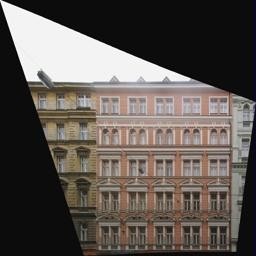building: (92, 63, 233, 256)
